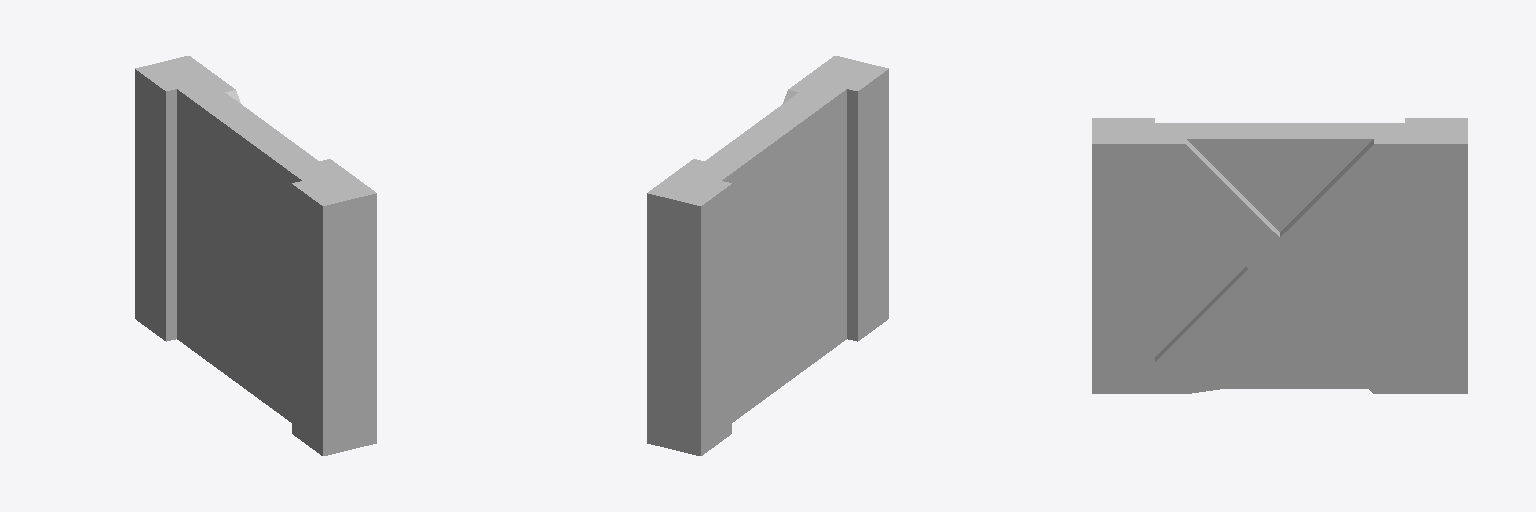
The model's file is Wood_Wall_Double_Cross_01.obj.
The picture shows the model from 3 angles: view 1: azimuth 30°, elevation 25°; view 2: azimuth 150°, elevation 25°; view 3: azimuth 270°, elevation 25°; orthographic projection.
Parts seen in each view (by area): view 1: Mesh1 Wood_Wall_Double_Cross Model; view 2: Mesh1 Wood_Wall_Double_Cross Model; view 3: Mesh1 Wood_Wall_Double_Cross Model.
Boxes of the visible parts, <box> form: Mesh1 Wood_Wall_Double_Cross Model: <box>135,56,376,455</box>; Mesh1 Wood_Wall_Double_Cross Model: <box>647,56,888,455</box>; Mesh1 Wood_Wall_Double_Cross Model: <box>1092,118,1467,393</box>.
Size of the model in its own units: 0.5 by 2.2 by 3.